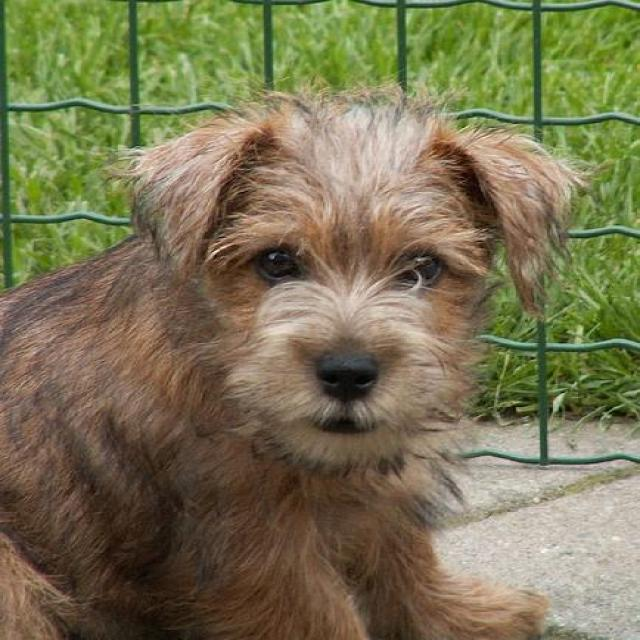dogs: (18, 53, 583, 633)
